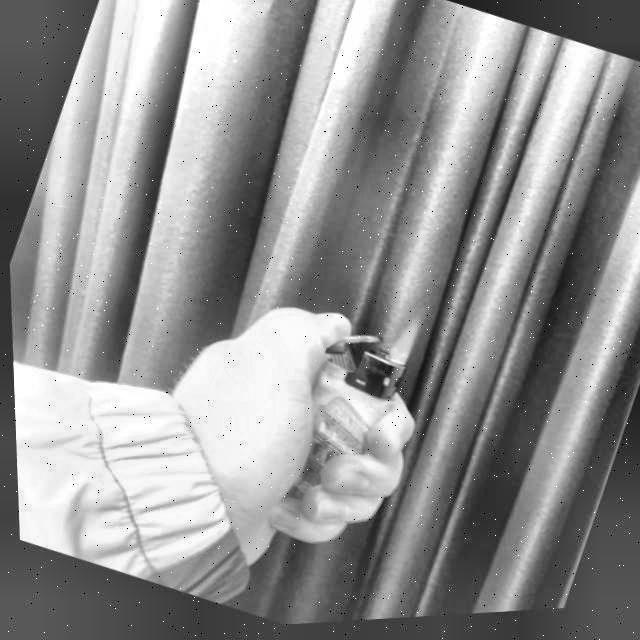Fire: (382, 303, 430, 370)
